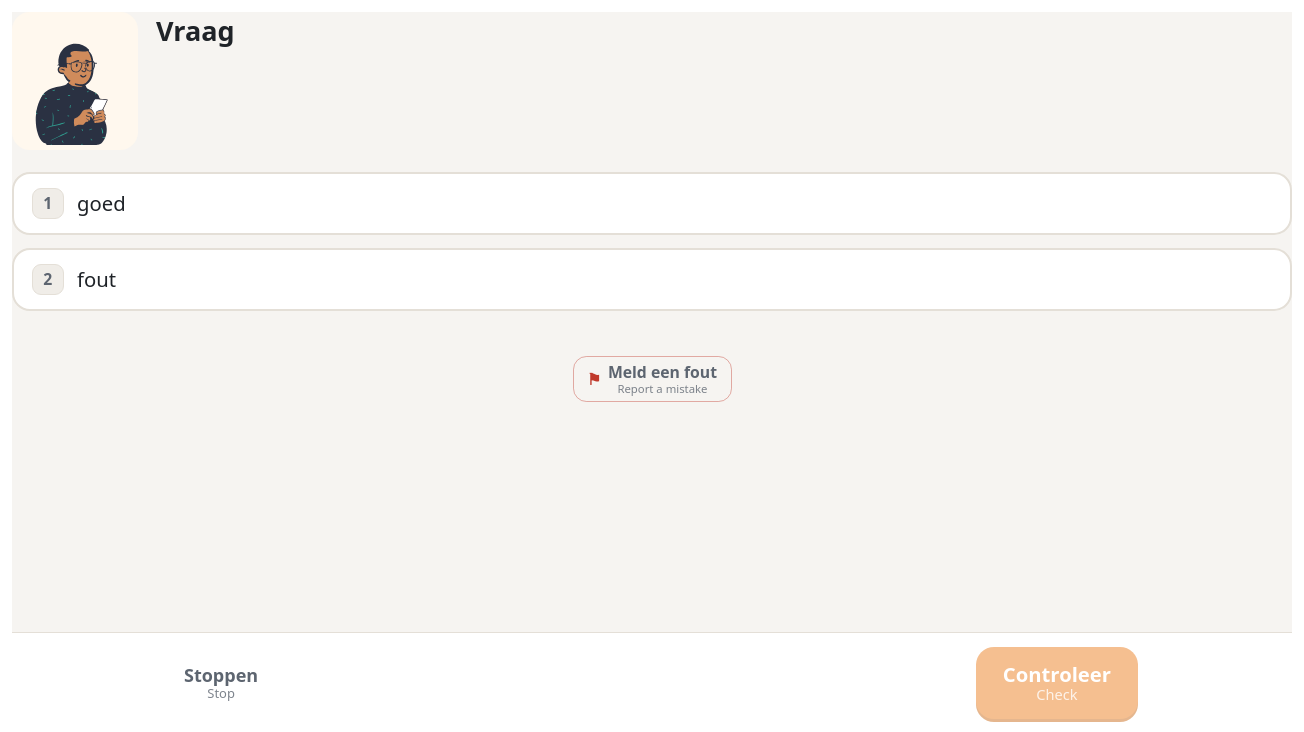
Test case: feedback is Dutch first › switching language translates the same praise instead of picking another one
Click the button "1 goed" at coordinates (48, 203), box [12, 172, 1292, 235]
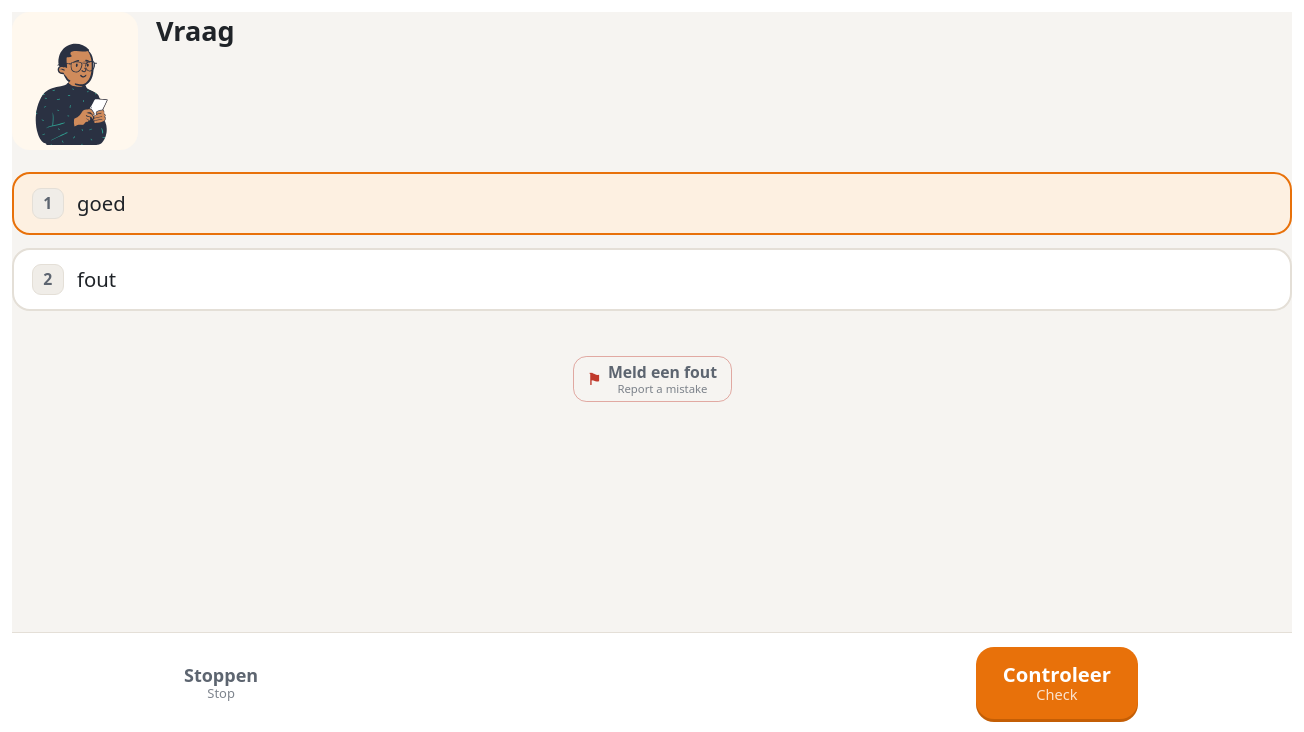
Click the button "Controleer Check" at coordinates (1057, 683), box [976, 647, 1138, 718]
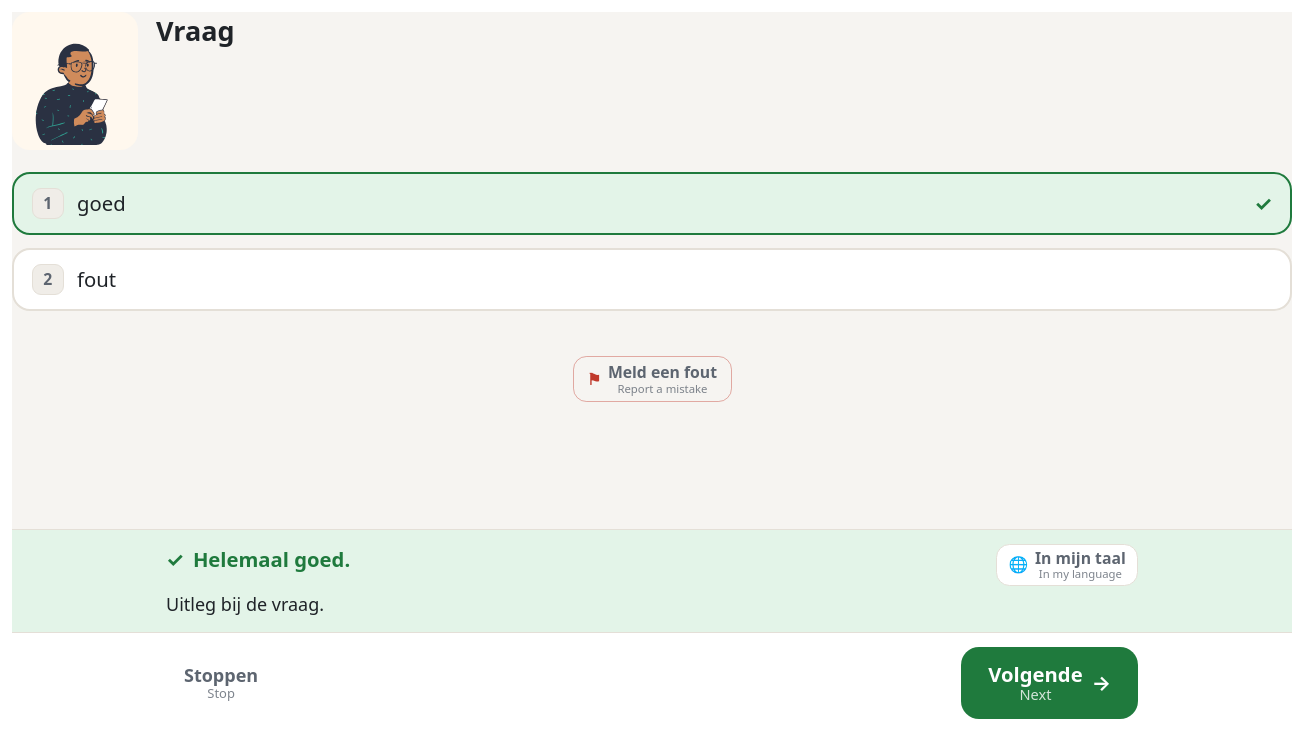
Check: the message "✓ Helemaal goed. 🌐 In mijn taal In my language Uitleg bij de vraag." is shown, box [12, 530, 1292, 633]
Click the button "🌐 In mijn taal In my language" at coordinates (1067, 565), box [996, 544, 1138, 586]
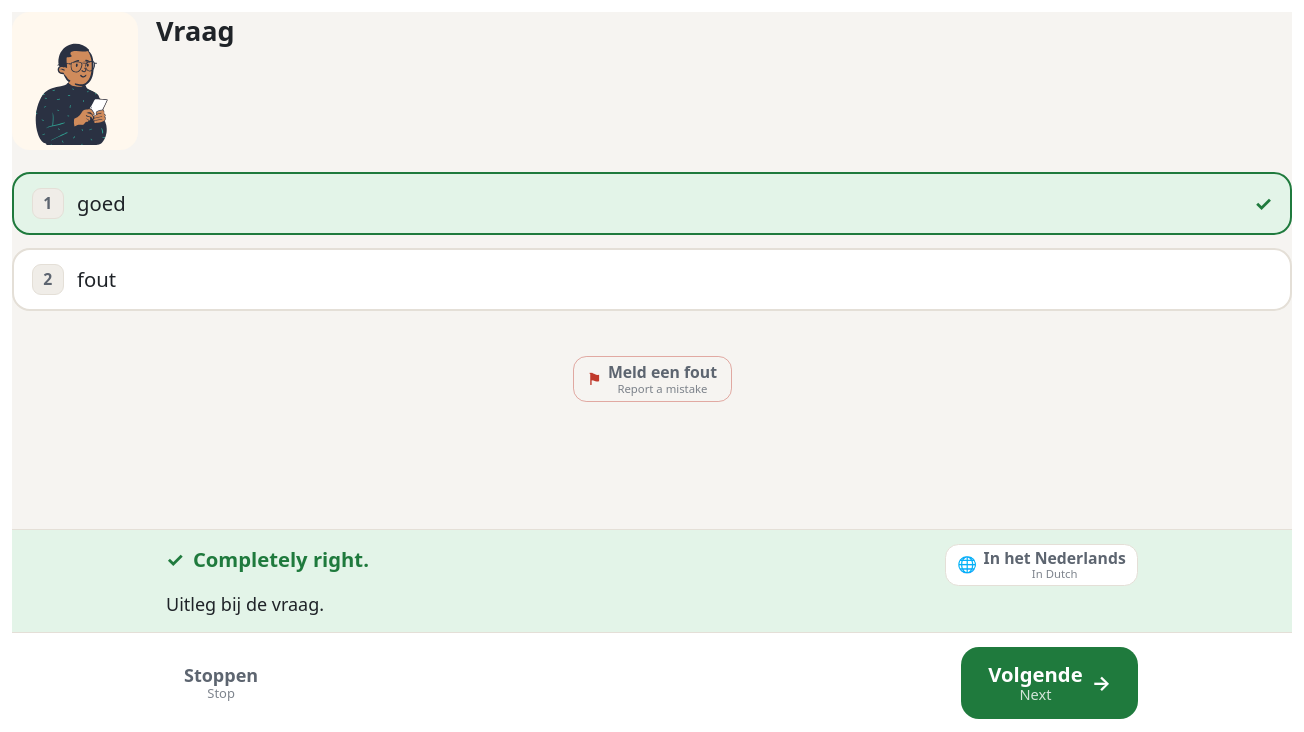
Check: the message "✓ Completely right. 🌐 In het Nederlands In Dutch Uitleg bij de vraag." is shown, box [12, 530, 1292, 633]
